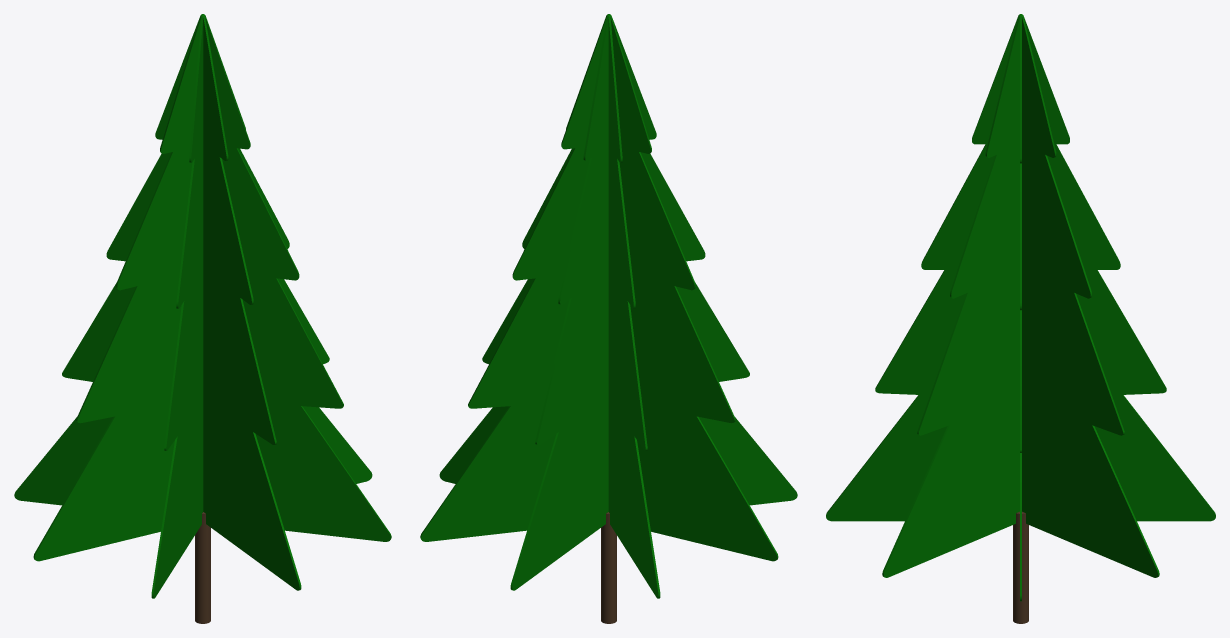
File: tree.fbx
3 renders of one model, left to right at view 1: azimuth 30°, elevation 25°; view 2: azimuth 150°, elevation 25°; view 3: azimuth 270°, elevation 25°, orthographic.
Visible parts, largest first — view 1: Pine_Tree:Shape004, Pine_Tree:Shape1, Pine_Tree:Shape002, Pine_Tree:Shape003, Pine_Tree:Cylinder001; view 2: Pine_Tree:Shape003, Pine_Tree:Shape1, Pine_Tree:Shape002, Pine_Tree:Shape004, Pine_Tree:Cylinder001; view 3: Pine_Tree:Shape002, Pine_Tree:Shape003, Pine_Tree:Shape004, Pine_Tree:Cylinder001, Pine_Tree:Shape1.
Part boxes in pixels (x1,y1,x2,y2): Pine_Tree:Shape004: (14, 14, 391, 541); Pine_Tree:Shape1: (33, 14, 372, 561); Pine_Tree:Shape002: (201, 14, 301, 590); Pine_Tree:Shape003: (151, 14, 203, 598); Pine_Tree:Cylinder001: (195, 512, 210, 623); Pine_Tree:Shape003: (420, 14, 797, 541); Pine_Tree:Shape1: (439, 14, 778, 561); Pine_Tree:Shape002: (510, 14, 610, 590); Pine_Tree:Shape004: (608, 14, 660, 598); Pine_Tree:Cylinder001: (601, 512, 616, 623); Pine_Tree:Shape002: (826, 14, 1215, 521); Pine_Tree:Shape003: (1020, 14, 1159, 577); Pine_Tree:Shape004: (882, 14, 1021, 577); Pine_Tree:Cylinder001: (1013, 511, 1028, 623); Pine_Tree:Shape1: (1020, 14, 1021, 601).
Size of the model in its own units: 13.12 by 22.51 by 13.12.
